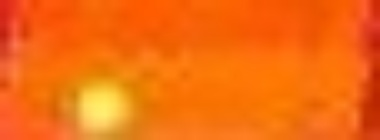Hotspot: (74, 76, 136, 132)
